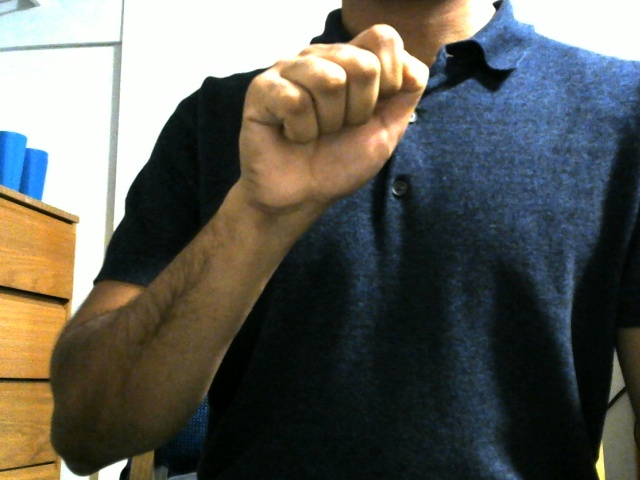A: (232, 16, 433, 207)
